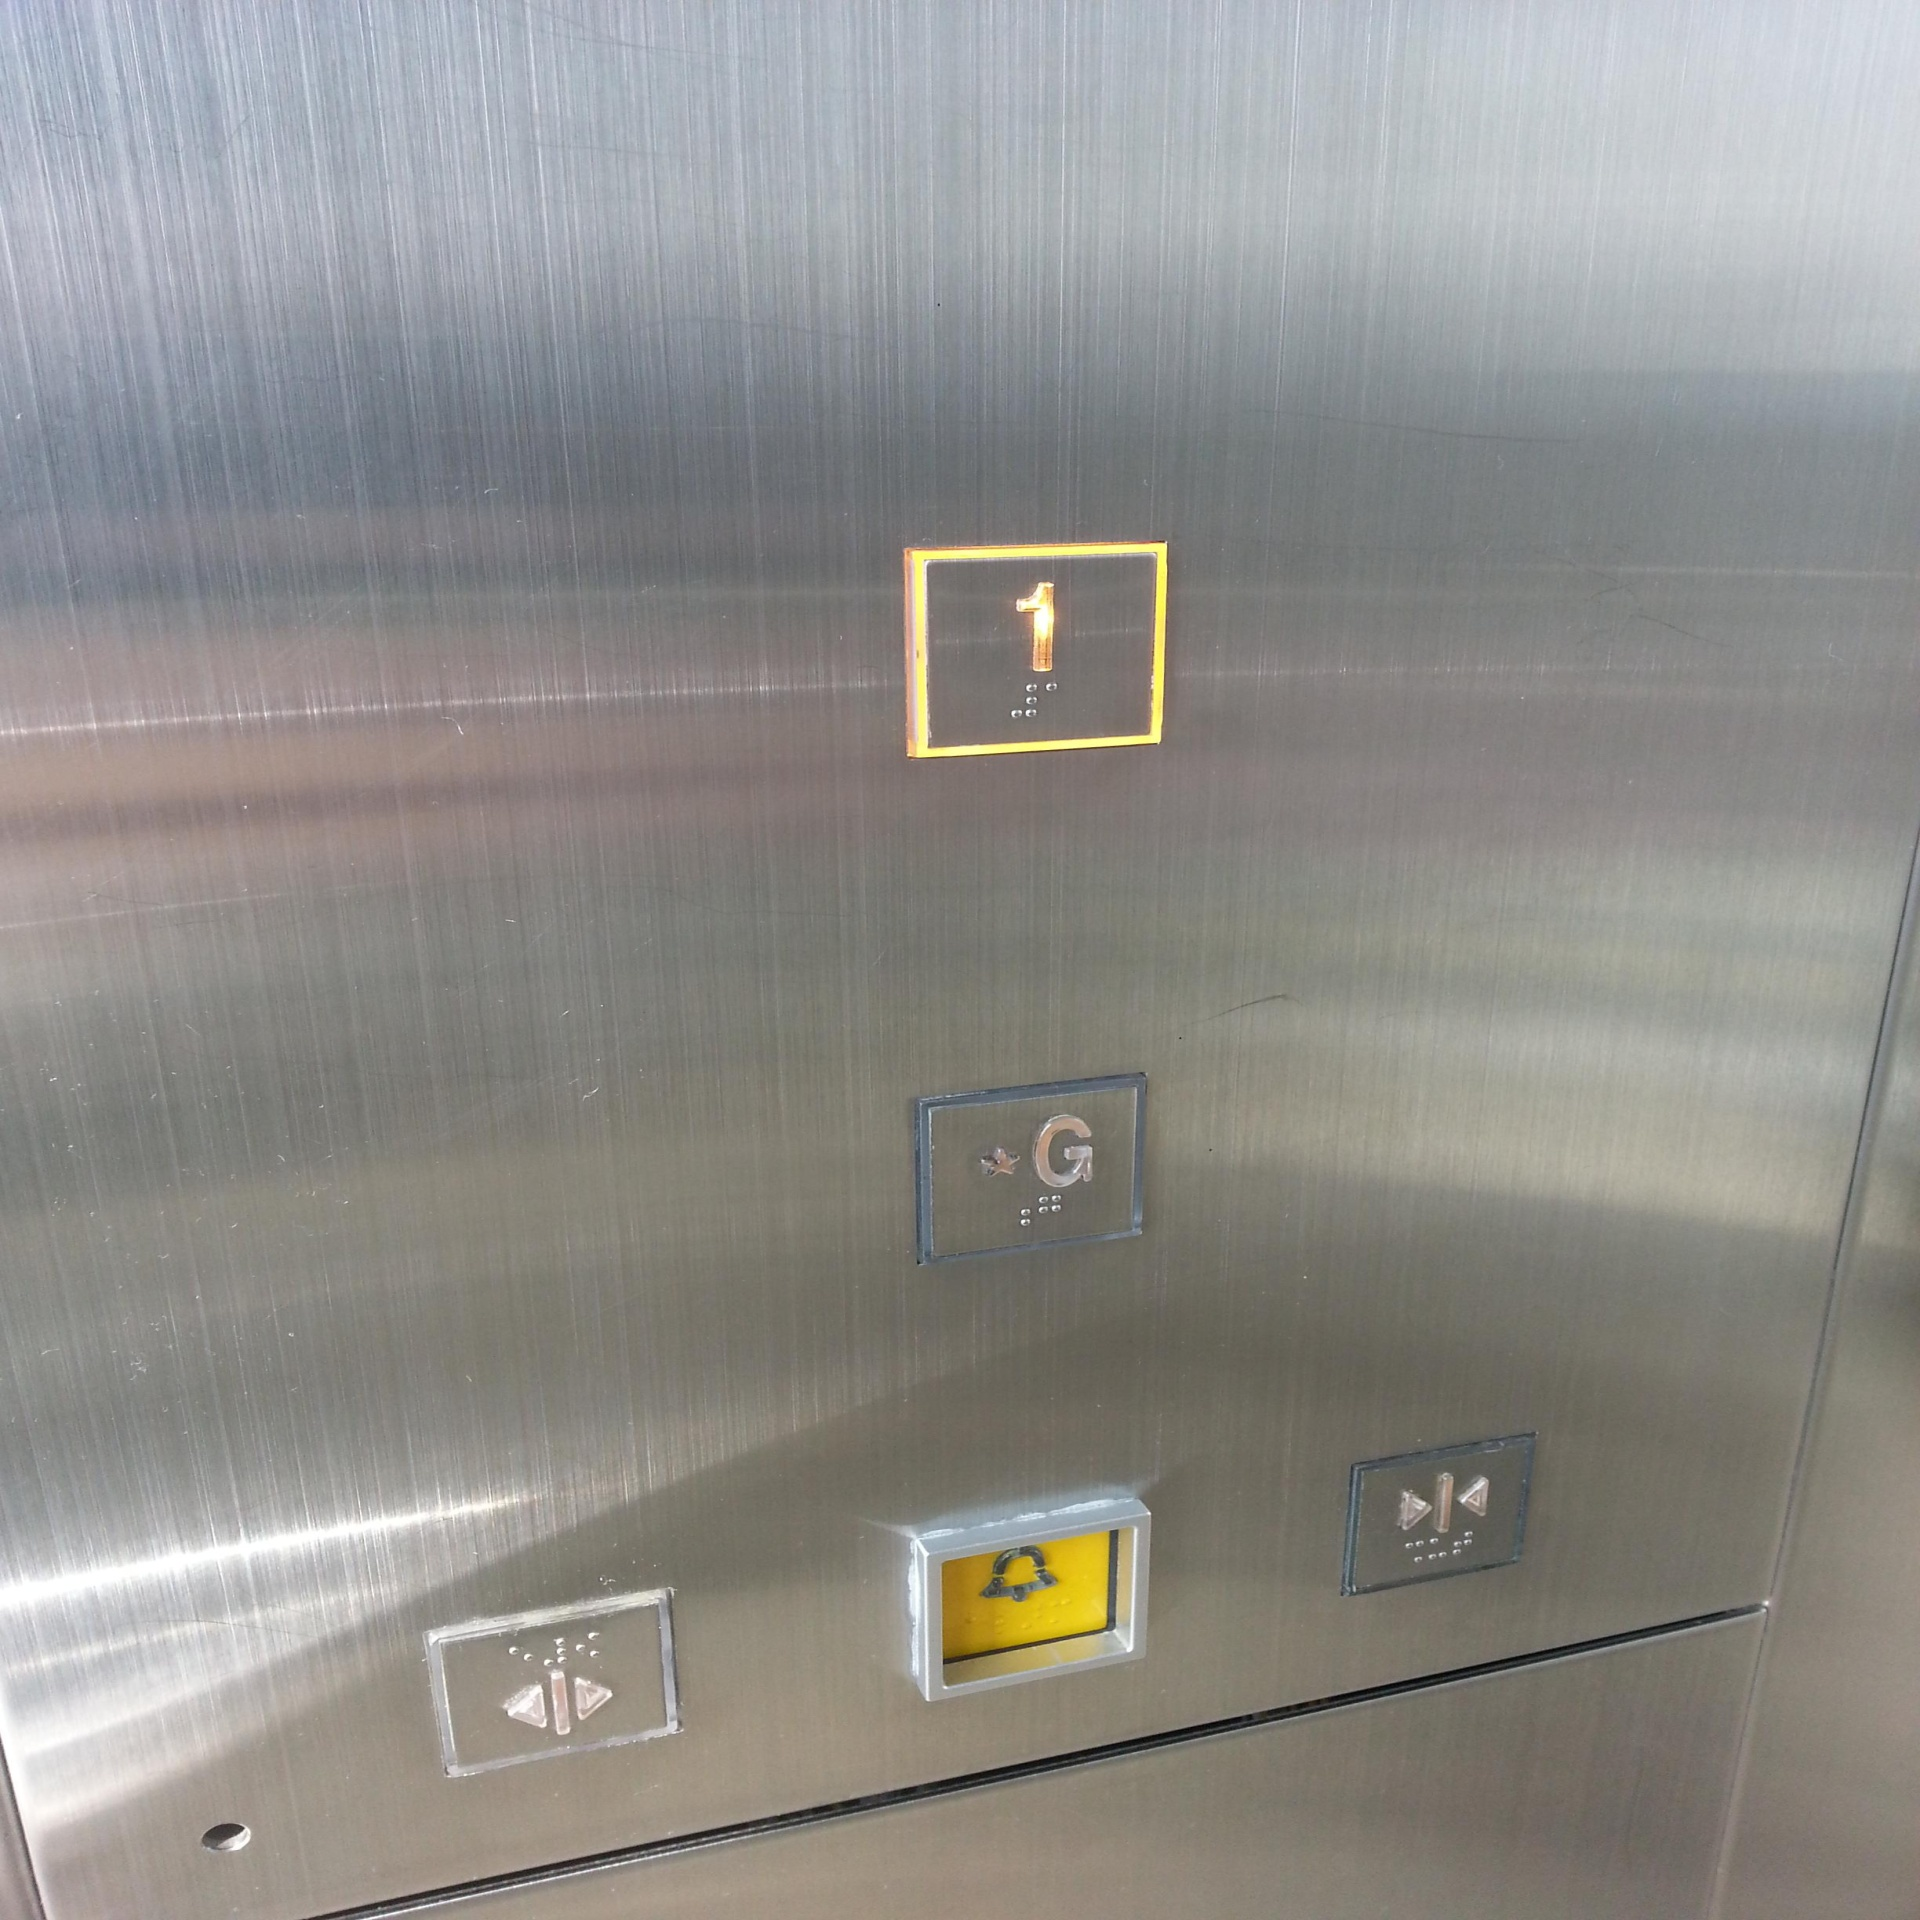1: (898, 535, 1173, 767)
alarm: (898, 1491, 1166, 1714)
close: (1338, 1422, 1540, 1602)
open: (410, 1582, 695, 1790)
sG: (907, 1069, 1153, 1276)
